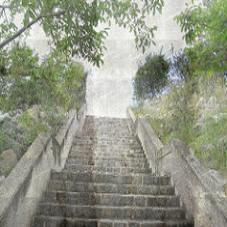Stair Up: (29, 115, 195, 227)
